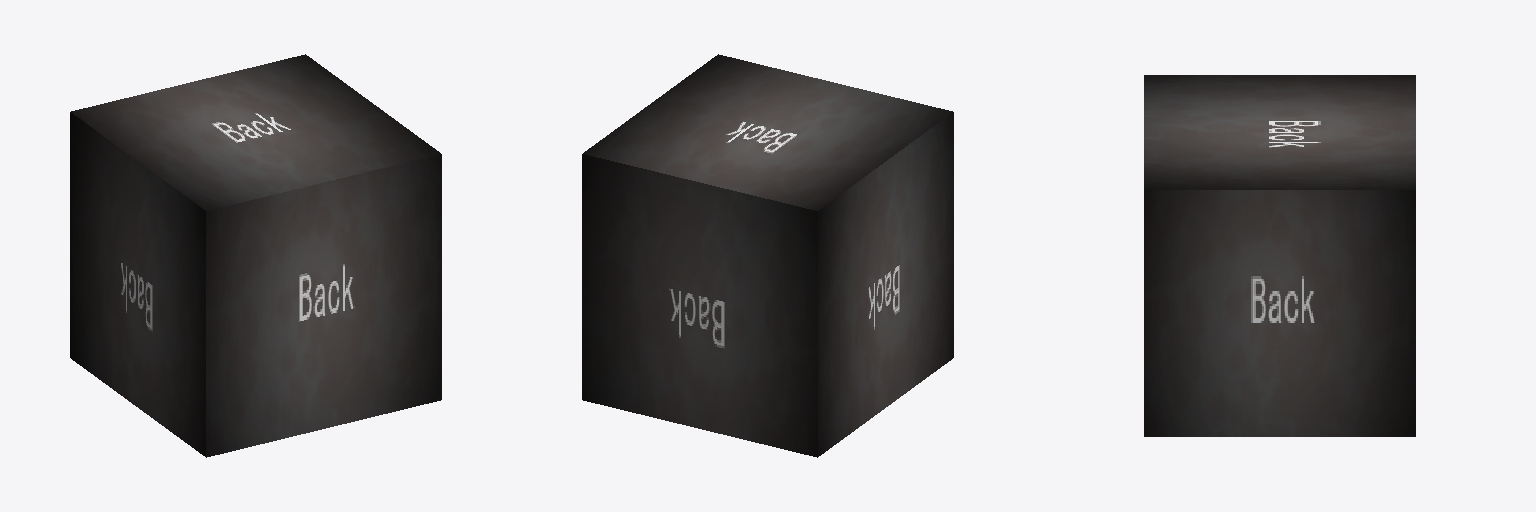
3 views of the same model, side by side, from view 1: azimuth 30°, elevation 25°; view 2: azimuth 150°, elevation 25°; view 3: azimuth 270°, elevation 25° (orthographic).
Visible parts, largest first — view 1: Cube; view 2: Cube; view 3: Cube.
Part boxes in pixels (left/top/right/bottom): Cube: left=70, top=54, right=441, bottom=457; Cube: left=582, top=54, right=953, bottom=457; Cube: left=1144, top=75, right=1415, bottom=436.
Bounding box in the file's own units: 2 × 2 × 2.
Materials: 1 (1 with a texture image).